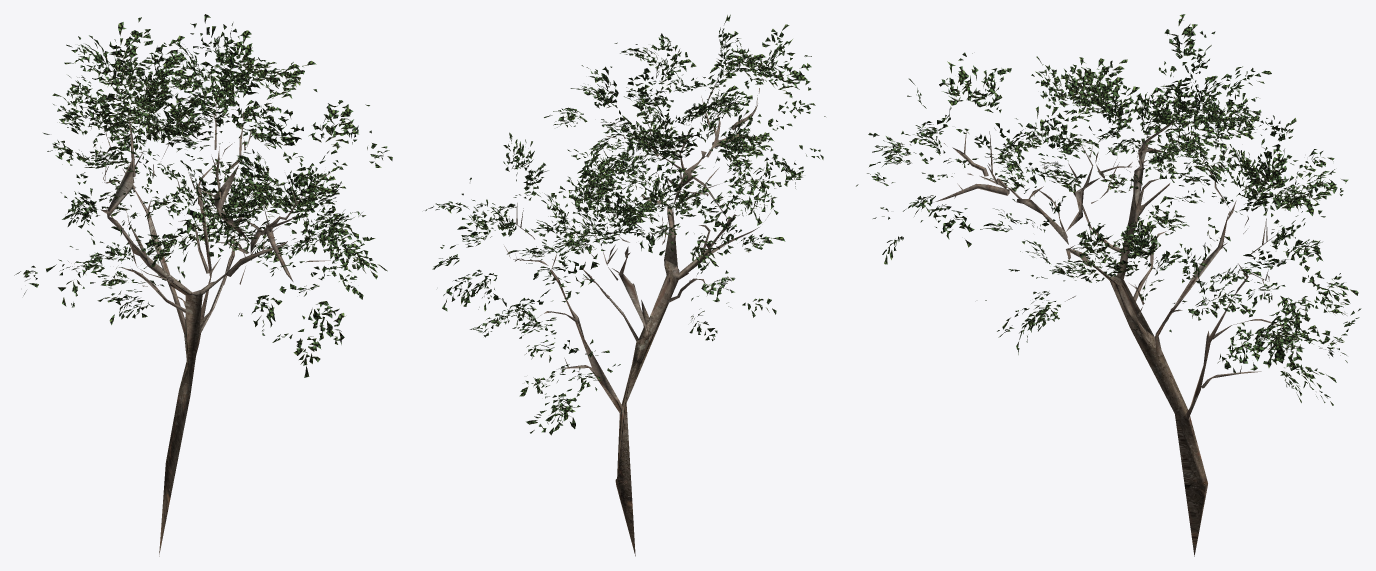
File: tree_small_02.glb
3 views of the same model, side by side, from view 1: azimuth 30°, elevation 25°; view 2: azimuth 150°, elevation 25°; view 3: azimuth 270°, elevation 25° (orthographic). The views are drawn at different scales.
Visible parts, largest first — view 1: tree_small_02_LOD0; view 2: tree_small_02_LOD0; view 3: tree_small_02_LOD0.
Boxes of the visible parts, bbox=[...] form: tree_small_02_LOD0: bbox=[14, 14, 392, 556]; tree_small_02_LOD0: bbox=[425, 14, 825, 556]; tree_small_02_LOD0: bbox=[856, 14, 1361, 556].
Bounding box in the file's own units: 2.87 × 4.54 × 4.15.
Materials: 3 (3 with a texture image).
